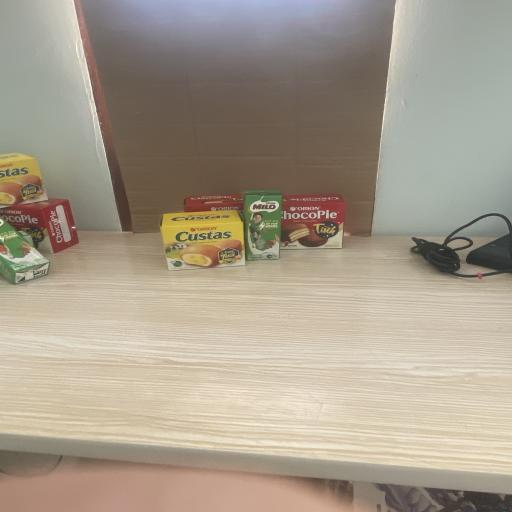chocopie: (280, 194, 346, 250), (12, 201, 76, 249), (183, 194, 244, 214)
custas: (160, 210, 245, 271), (0, 154, 41, 204)
milo: (0, 214, 48, 287), (243, 190, 282, 261)
